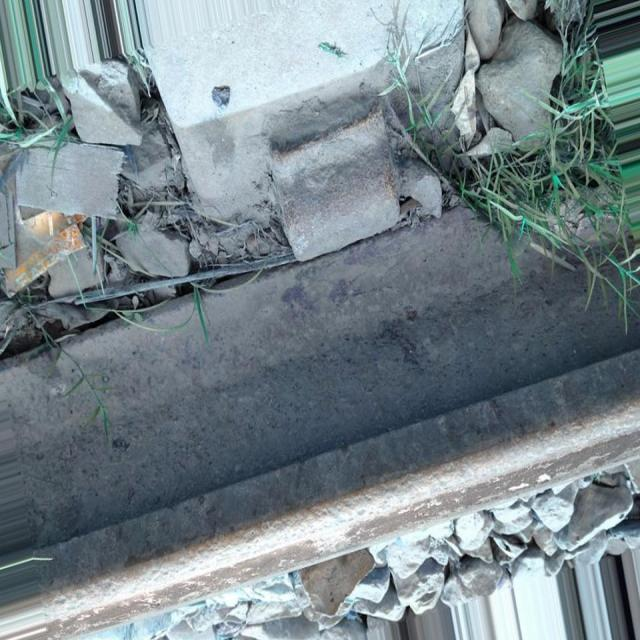Missing Fastener: (255, 103, 459, 298)
